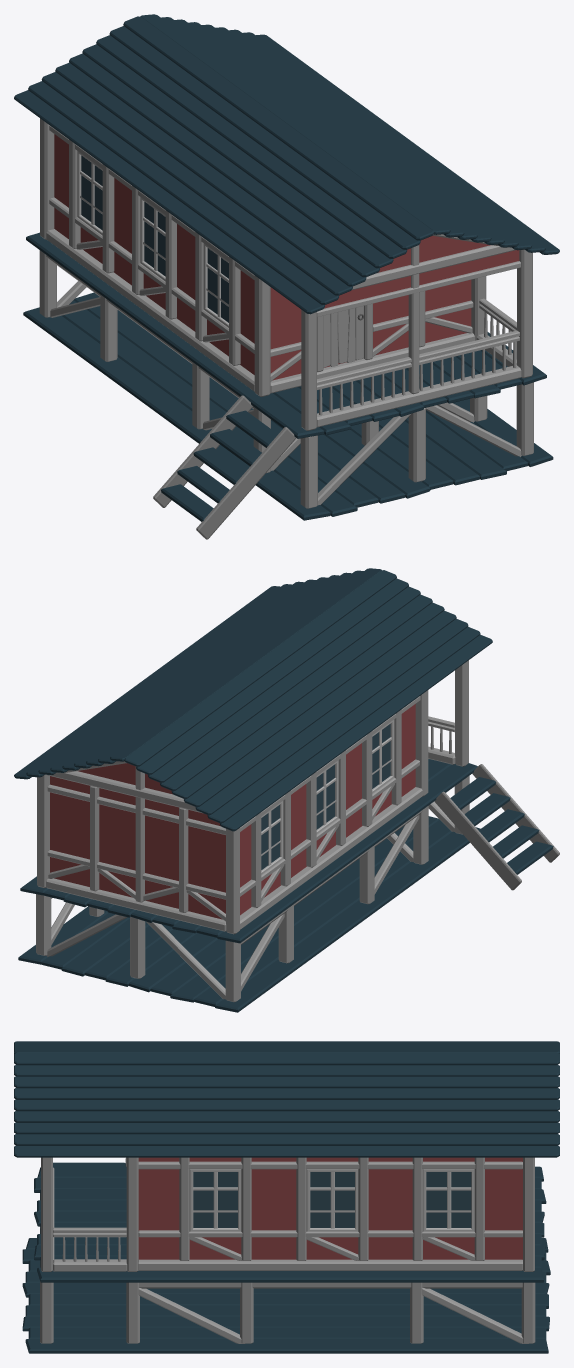
Rendered from farmstractures_18.glb.
3 views of the same model, one above another, from view 1: azimuth 30°, elevation 25°; view 2: azimuth 150°, elevation 25°; view 3: azimuth 270°, elevation 25° (orthographic). The views are drawn at different scales.
Parts seen in each view (by area): view 1: farmstractures_18; view 2: farmstractures_18; view 3: farmstractures_18.
Boxes of the visible parts, x1=… form: farmstractures_18: x1=14, y1=14, x2=559, y2=539; farmstractures_18: x1=14, y1=568, x2=559, y2=1012; farmstractures_18: x1=14, y1=1041, x2=559, y2=1353.
Bounding box in the file's own units: 6.6 × 4.91 × 9.77.
Materials: 1 (1 with a texture image).
